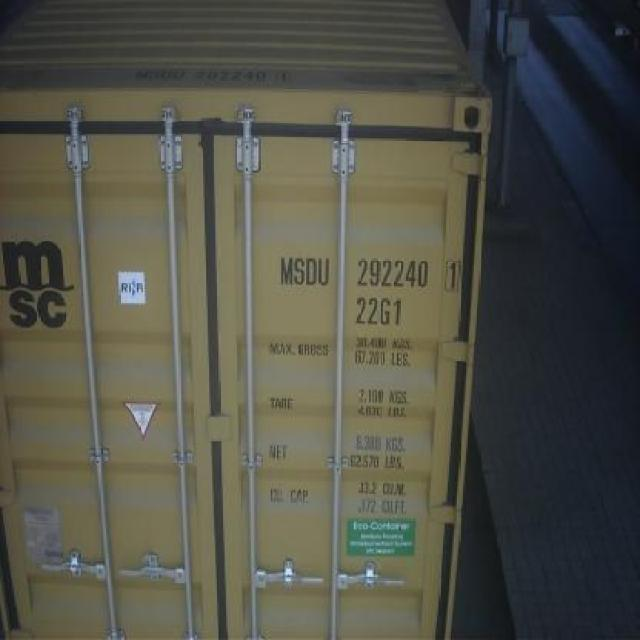ISO: (357, 298, 403, 326)
container_number: (282, 256, 461, 290)
